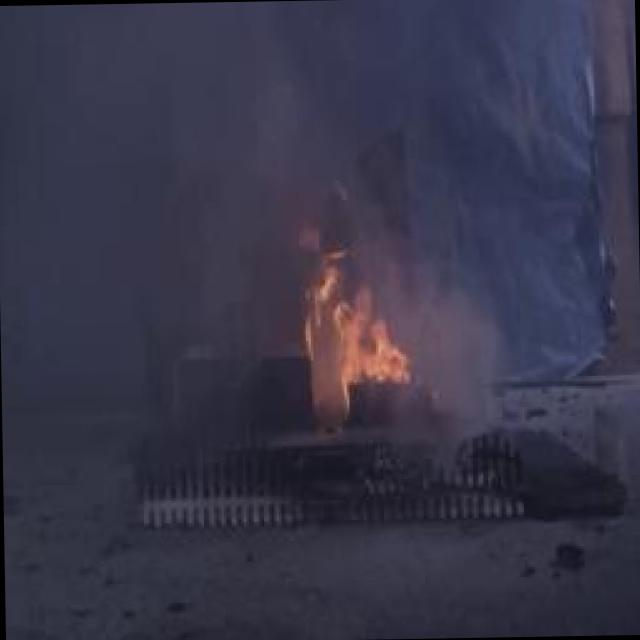fire: (296, 232, 416, 399)
